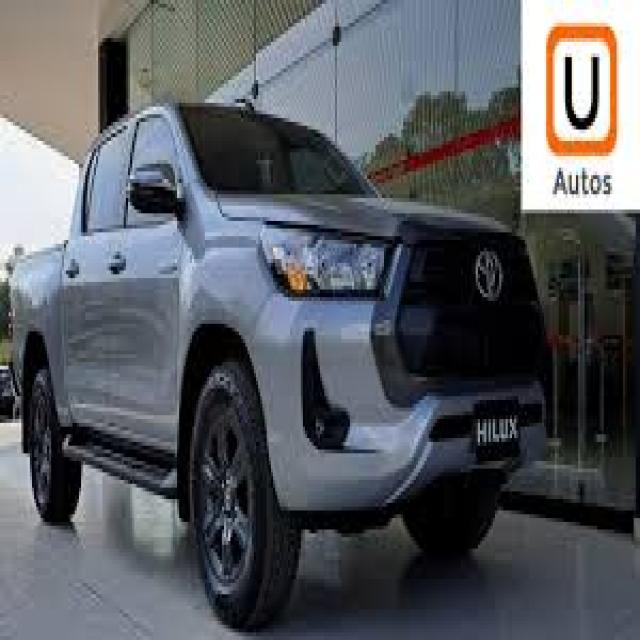CMT: (14, 97, 543, 612)
